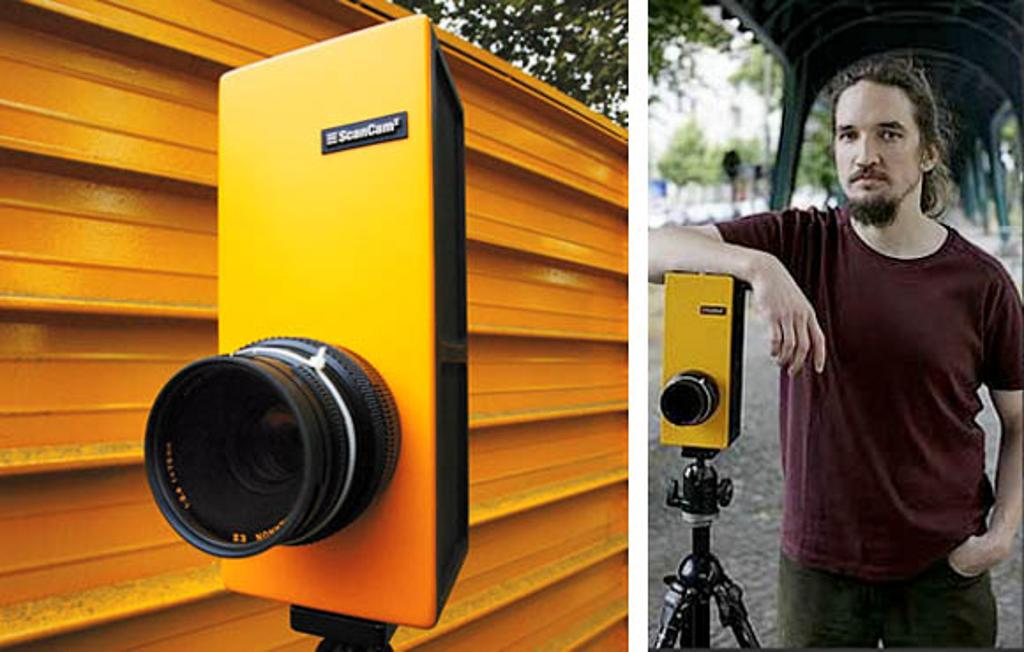face: (832, 90, 912, 208)
